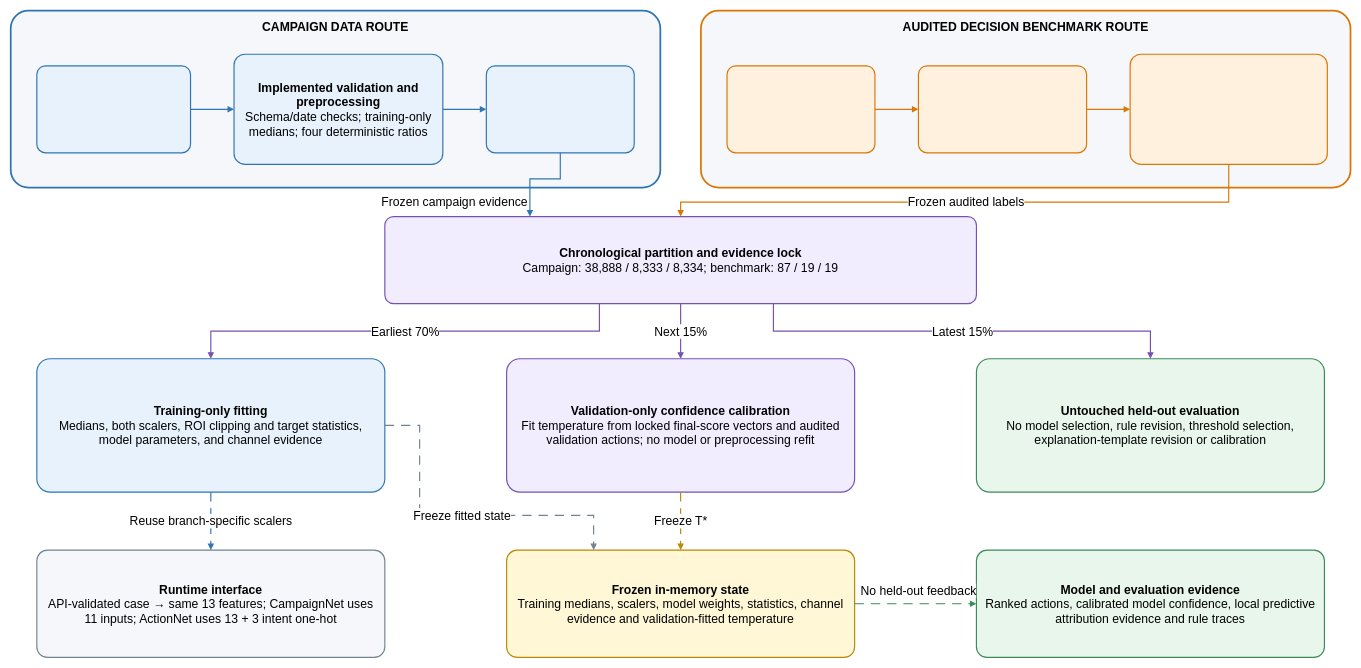
Image size: 1361x668. Some labels were removed from this diagram. Each missing label, with the centre of its shape:
"13-feature frame Ordered by Date and Campaign_ID" goes at [560,109].
"Adjudication and freeze Audited labels plus immutable benchmark manifest" goes at [1228,109].
"Candidate cases Independent review set" goes at [800,109].
"Independent annotation Intent and audited operational reference action" goes at [1002,109].
"Raw campaign source Versioned operational records" goes at [113,109].
